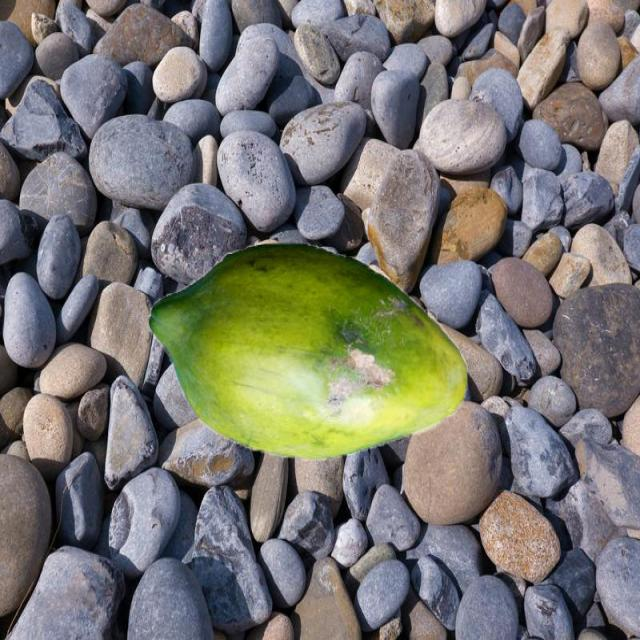Pepaya rippen: (137, 239, 474, 478)
